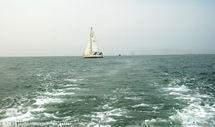fanchuan: (78, 26, 104, 58)
